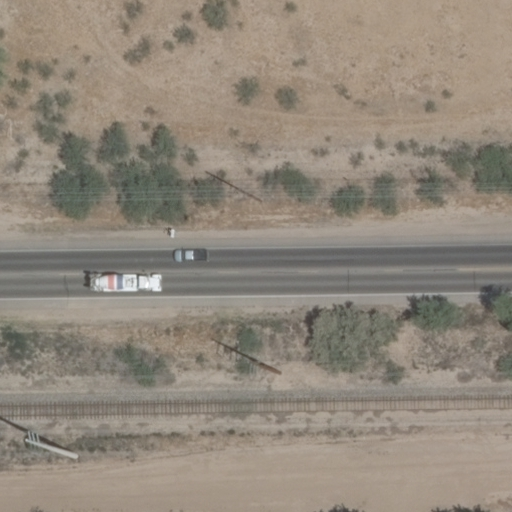DT: (25, 434, 81, 460), (231, 352, 283, 375), (244, 187, 268, 207)
